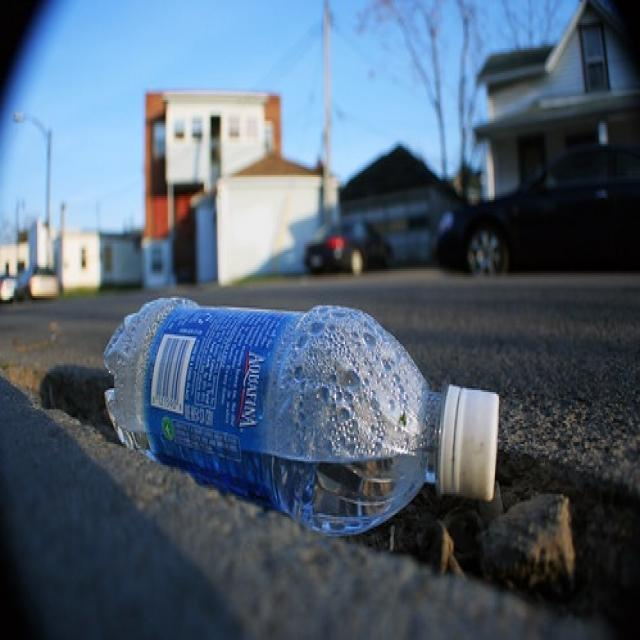plastic_bottle: (103, 296, 500, 538)
